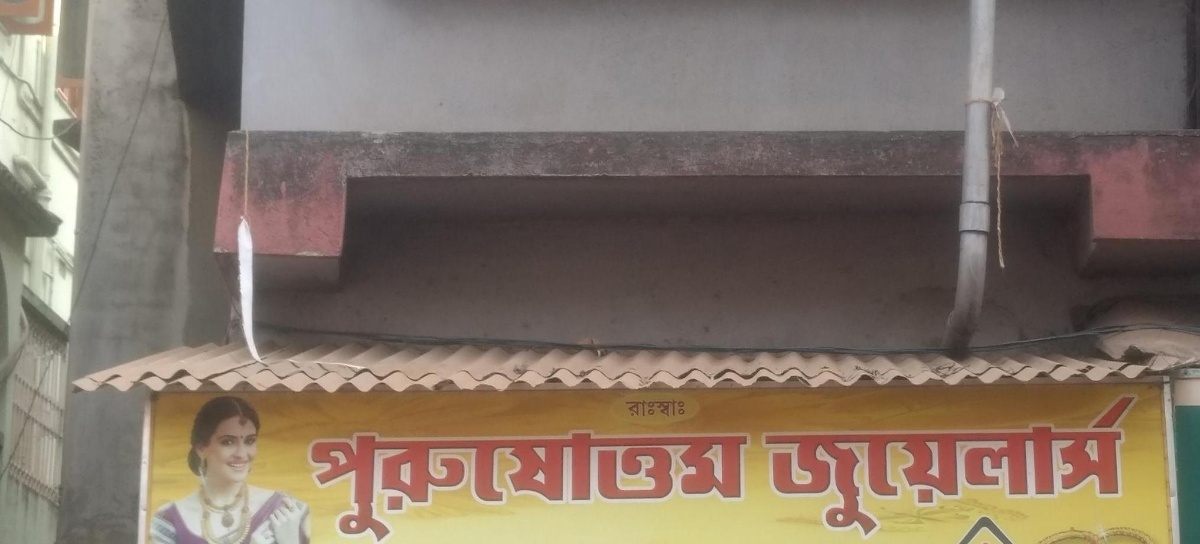text: (769, 393, 784, 538), (785, 393, 800, 538), (801, 393, 816, 538), (817, 393, 832, 538), (833, 393, 848, 538), (849, 393, 864, 538), (865, 393, 880, 538), (881, 393, 896, 538), (897, 393, 912, 538), (913, 393, 928, 538), (929, 393, 944, 538), (945, 393, 960, 538), (961, 393, 976, 538), (977, 393, 992, 538), (993, 393, 1008, 538), (1009, 393, 1024, 538), (1025, 393, 1040, 538), (1041, 393, 1056, 538), (1057, 393, 1072, 538), (1073, 393, 1088, 538), (1089, 393, 1104, 538), (1105, 393, 1120, 538), (1121, 393, 1136, 538), (737, 414, 753, 543), (305, 414, 320, 543), (321, 414, 336, 543), (337, 414, 352, 543), (353, 414, 368, 543), (369, 414, 384, 543), (385, 414, 400, 543), (401, 414, 416, 543), (417, 414, 432, 543), (433, 414, 448, 543), (449, 414, 464, 543), (465, 414, 480, 543), (481, 414, 496, 543), (497, 414, 512, 543), (513, 414, 528, 543), (529, 414, 544, 543), (545, 414, 560, 543), (561, 414, 576, 543), (577, 414, 592, 543), (593, 414, 608, 543), (609, 414, 624, 543), (625, 414, 640, 543), (641, 414, 656, 543), (657, 414, 672, 543), (673, 414, 688, 543), (689, 414, 704, 543), (705, 414, 720, 543), (721, 414, 736, 543), (762, 393, 768, 538), (1137, 393, 1143, 538), (961, 514, 976, 540), (977, 514, 992, 540), (993, 514, 1008, 540), (1009, 514, 1024, 540), (1025, 514, 1040, 540), (1041, 514, 1056, 540), (1057, 514, 1072, 540), (1073, 514, 1088, 540), (1089, 514, 1104, 540), (1105, 514, 1120, 540), (1121, 514, 1136, 540), (1137, 514, 1152, 540), (625, 398, 640, 418), (641, 398, 656, 418), (657, 398, 672, 418), (673, 398, 687, 418), (1153, 514, 1160, 540), (955, 514, 960, 540)
